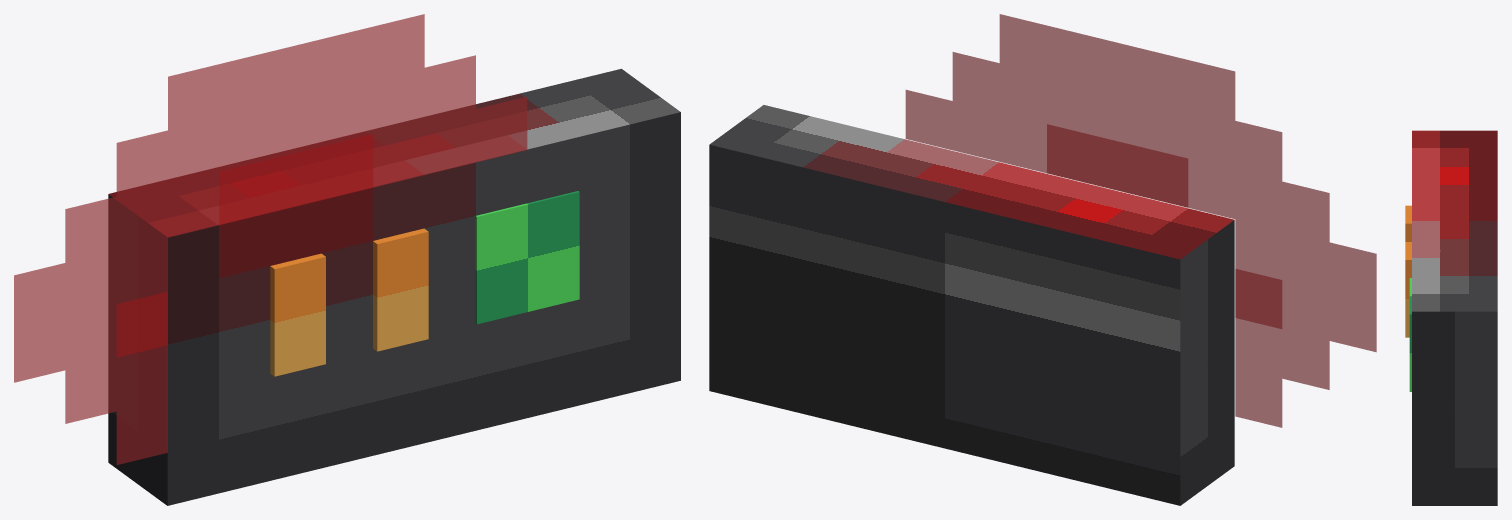
The model's file is airlock_sensor_cycle_1.glb.
3 views of the same model, side by side, from view 1: azimuth 30°, elevation 25°; view 2: azimuth 150°, elevation 25°; view 3: azimuth 270°, elevation 25° (orthographic). The views are drawn at different scales.
Visible parts, largest first — view 1: Continuous_Sensor_Housing, Halo_Overlay, Status_Indicator, Press_Button_1, Press_Button_2; view 2: Continuous_Sensor_Housing, Halo_Overlay; view 3: Continuous_Sensor_Housing, Press_Button_2, Status_Indicator, Press_Button_1.
Part boxes in pixels (<box>): Continuous_Sensor_Housing: <box>108,68,680,505</box>; Halo_Overlay: <box>14,14,527,464</box>; Status_Indicator: <box>475,191,579,324</box>; Press_Button_1: <box>270,253,325,376</box>; Press_Button_2: <box>373,228,428,351</box>; Continuous_Sensor_Housing: <box>709,105,1234,505</box>; Halo_Overlay: <box>905,14,1376,427</box>; Continuous_Sensor_Housing: <box>1412,130,1497,505</box>; Press_Button_2: <box>1405,242,1411,337</box>; Status_Indicator: <box>1409,278,1411,391</box>; Press_Button_1: <box>1405,205,1411,241</box>.
Size of the model in its own units: 0.3656 by 0.225 by 0.0605.
2 materials, 2 textured.
